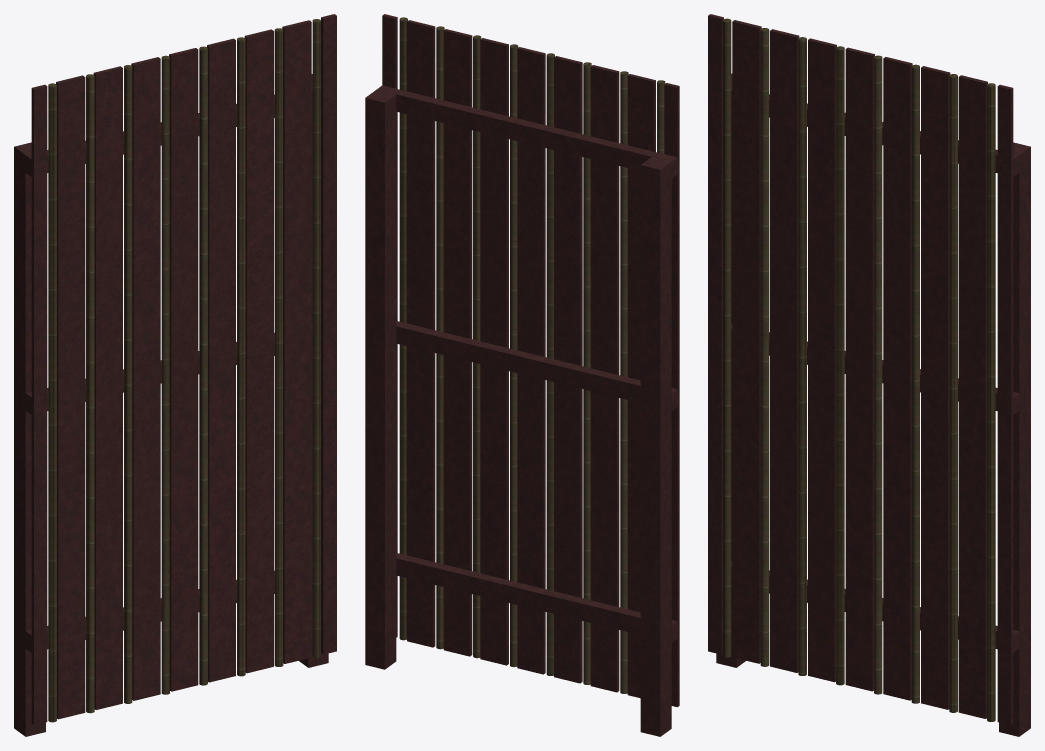
Rendered from mitutatehari-yamato_h1800_rustycopper.fbx.
3 views of the same model, side by side, from view 1: azimuth 30°, elevation 25°; view 2: azimuth 150°, elevation 25°; view 3: azimuth 330°, elevation 25° (orthographic). The views are drawn at different scales.
Visible parts, largest first — view 1: mitutatehari-yamato_h1800_rustycopper; view 2: mitutatehari-yamato_h1800_rustycopper; view 3: mitutatehari-yamato_h1800_rustycopper.
Part boxes in pixels (x1,y1,x2,y2): mitutatehari-yamato_h1800_rustycopper: (14,14,336,736); mitutatehari-yamato_h1800_rustycopper: (365,14,679,736); mitutatehari-yamato_h1800_rustycopper: (708,14,1030,736).
Size of the model in its own units: 89.9 by 185 by 11.2.
2 materials, 2 textured.
